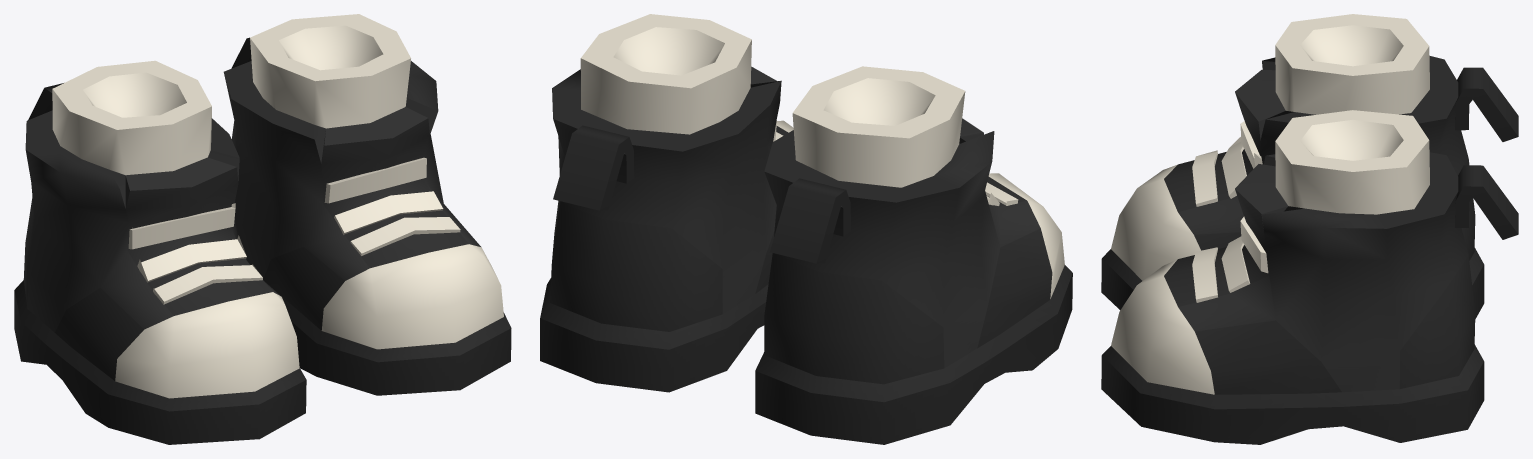
The model's file is Shoes_19.fbx.
3 views of the same model, side by side, from view 1: azimuth 30°, elevation 25°; view 2: azimuth 150°, elevation 25°; view 3: azimuth 270°, elevation 25° (orthographic). The views are drawn at different scales.
Parts seen in each view (by area): view 1: Shoes_19; view 2: Shoes_19; view 3: Shoes_19.
Part boxes in pixels (bbox=[...]): Shoes_19: bbox=[14, 14, 511, 444]; Shoes_19: bbox=[540, 14, 1072, 444]; Shoes_19: bbox=[1101, 14, 1518, 444].
Bounding box in the file's own units: 40.49 × 26 × 37.94.
